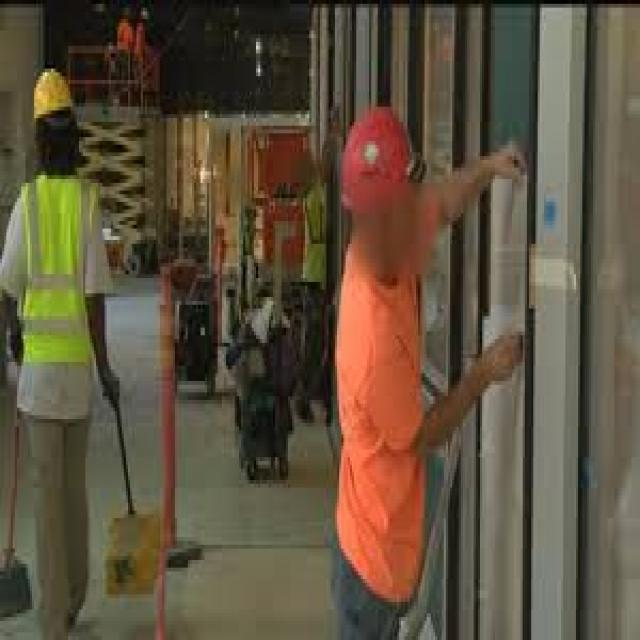Reflective-Jacket: (4, 164, 115, 415)
Safety-Helmet: (326, 95, 427, 229), (21, 57, 86, 145)
